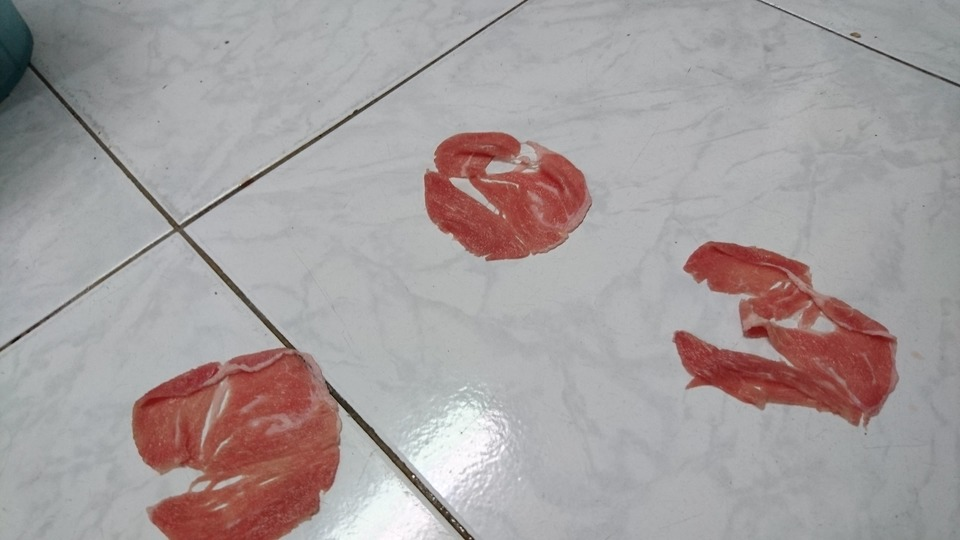restructured meat: (644, 225, 895, 441), (100, 332, 363, 538), (410, 115, 606, 250)
